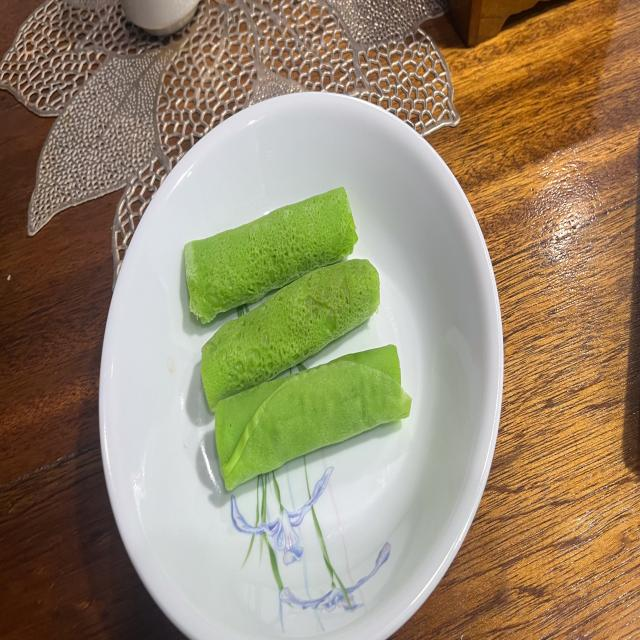Kuih-Ketayap: (215, 344, 411, 491), (201, 260, 380, 411), (184, 187, 358, 322)
